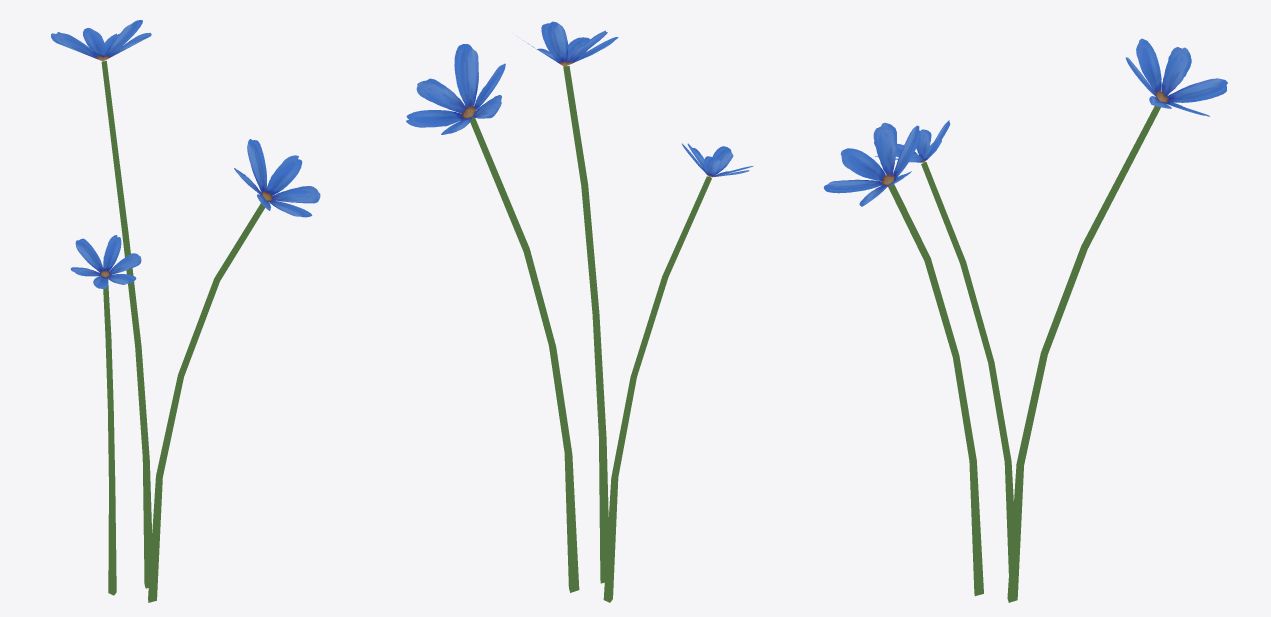
Rendered from MEADOW_SM_Flower_03_01.gltf.
3 views of the same model, side by side, from view 1: azimuth 30°, elevation 25°; view 2: azimuth 150°, elevation 25°; view 3: azimuth 270°, elevation 25° (orthographic). The views are drawn at different scales.
Parts seen in each view (by area): view 1: SM_Flower_03_01_LOD0; view 2: SM_Flower_03_01_LOD0; view 3: SM_Flower_03_01_LOD0.
Boxes of the visible parts, <box> form: SM_Flower_03_01_LOD0: <box>51,20,320,602</box>; SM_Flower_03_01_LOD0: <box>406,21,753,602</box>; SM_Flower_03_01_LOD0: <box>823,38,1227,602</box>.
Size of the model in its own units: 0.3253 by 0.6315 by 0.4455.
Materials: 1 (1 with a texture image).
